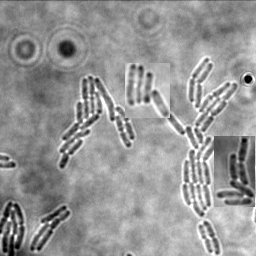Dividing: (204, 219, 222, 255), (199, 223, 215, 253)
Microcolony: (167, 57, 238, 216), (59, 75, 136, 169), (214, 136, 255, 207), (125, 63, 170, 118), (30, 204, 72, 251), (1, 200, 26, 255)
